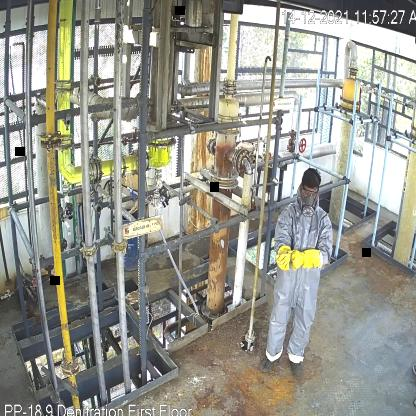goggles: (300, 183, 320, 195)
mask: (300, 195, 316, 218)
